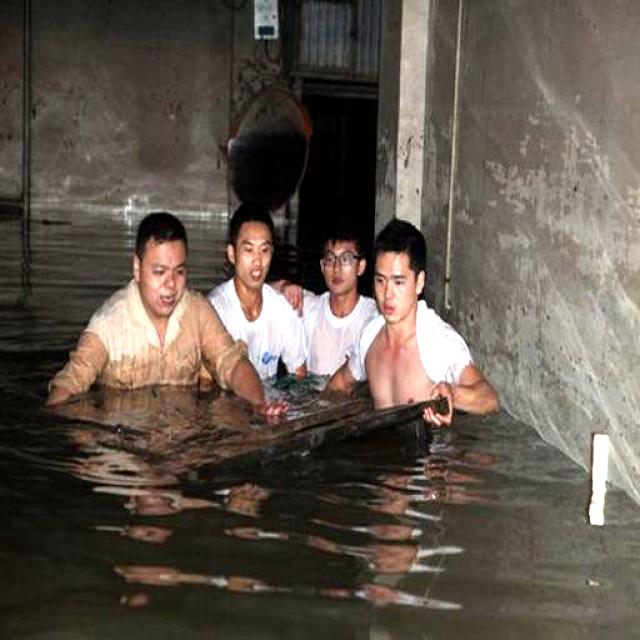civilian: (38, 199, 293, 443), (313, 216, 511, 433), (203, 204, 313, 406), (270, 217, 381, 385)
